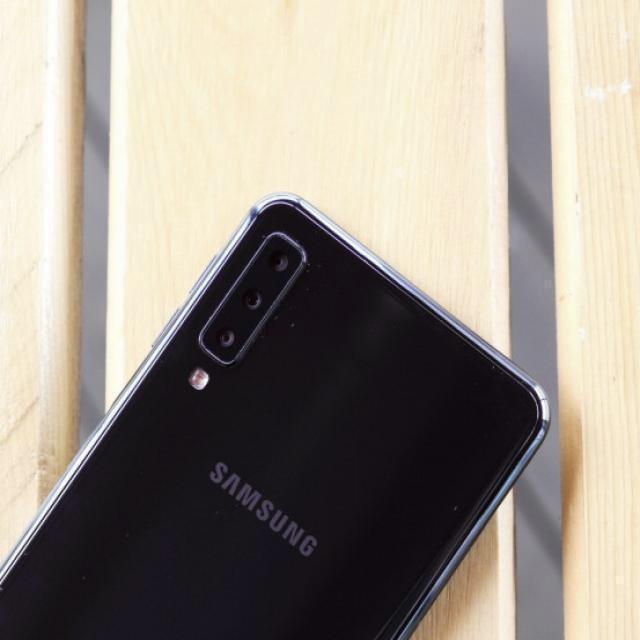lens: (198, 238, 318, 369)
phone: (4, 194, 552, 634)
